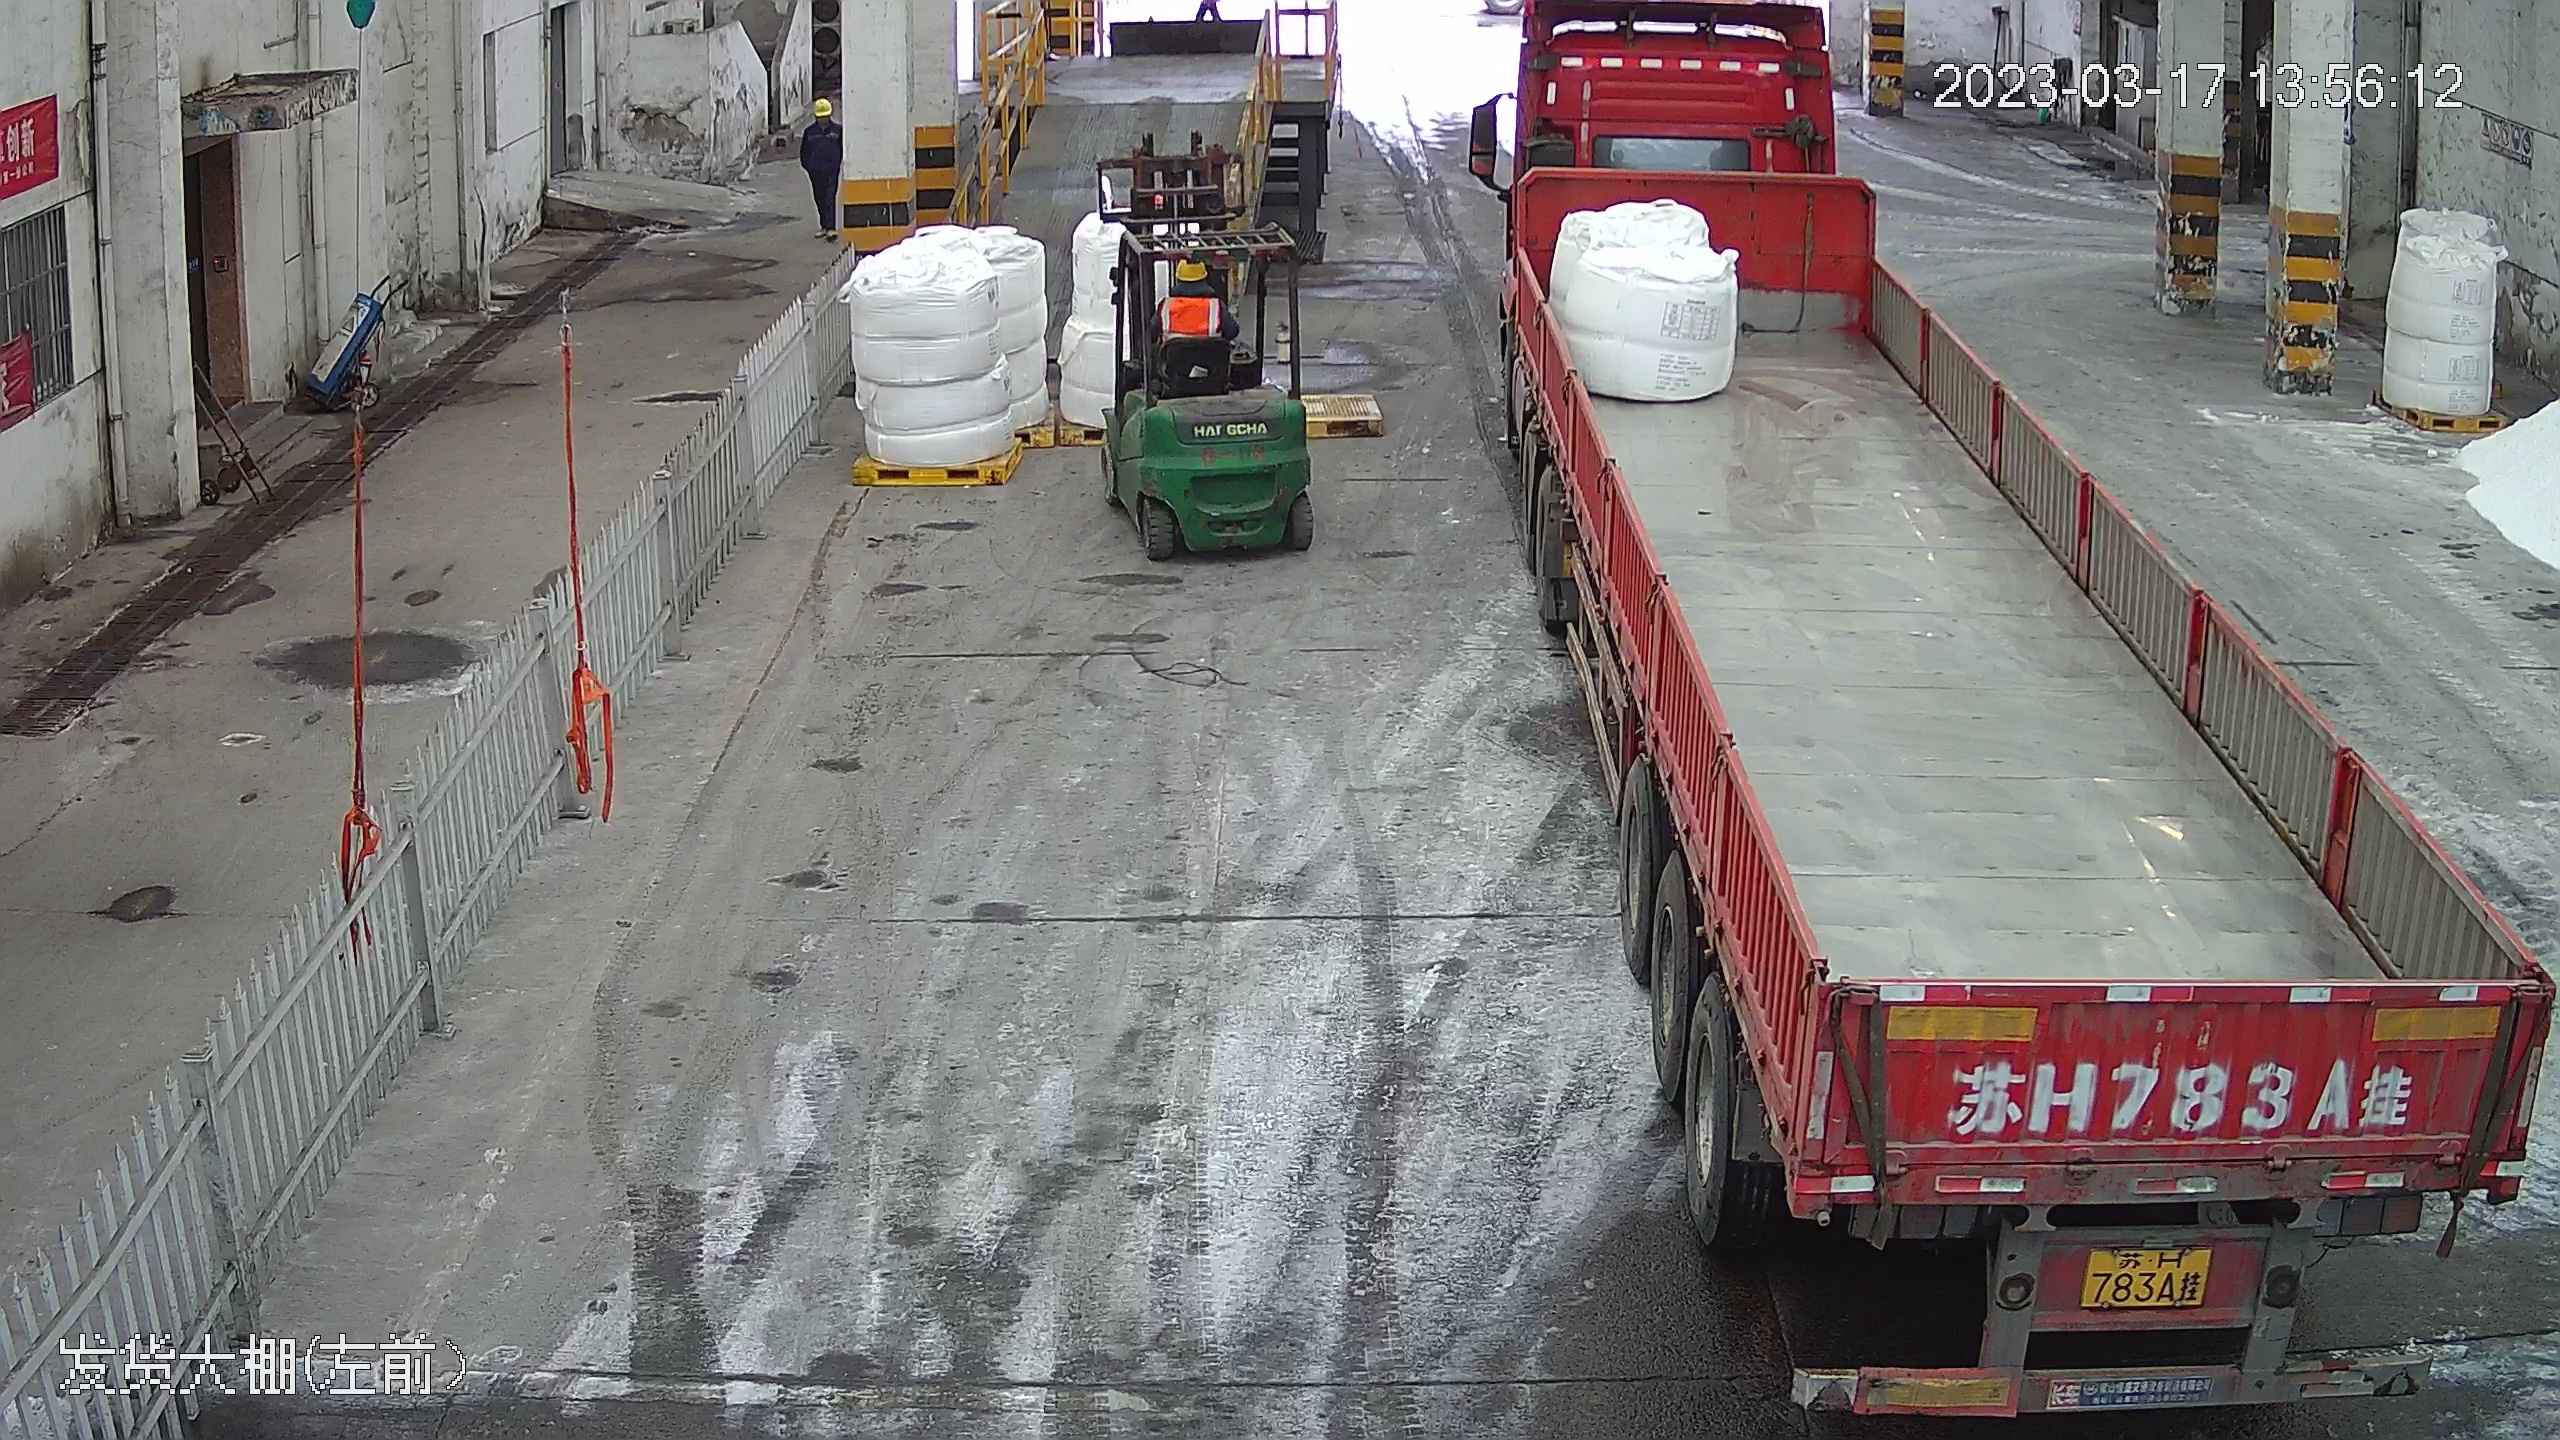head: (1159, 259, 1225, 334), (800, 97, 840, 141)
helmet: (1173, 257, 1210, 283), (811, 96, 833, 115)
people: (791, 93, 847, 238)
truck: (1480, 6, 2550, 1385)
